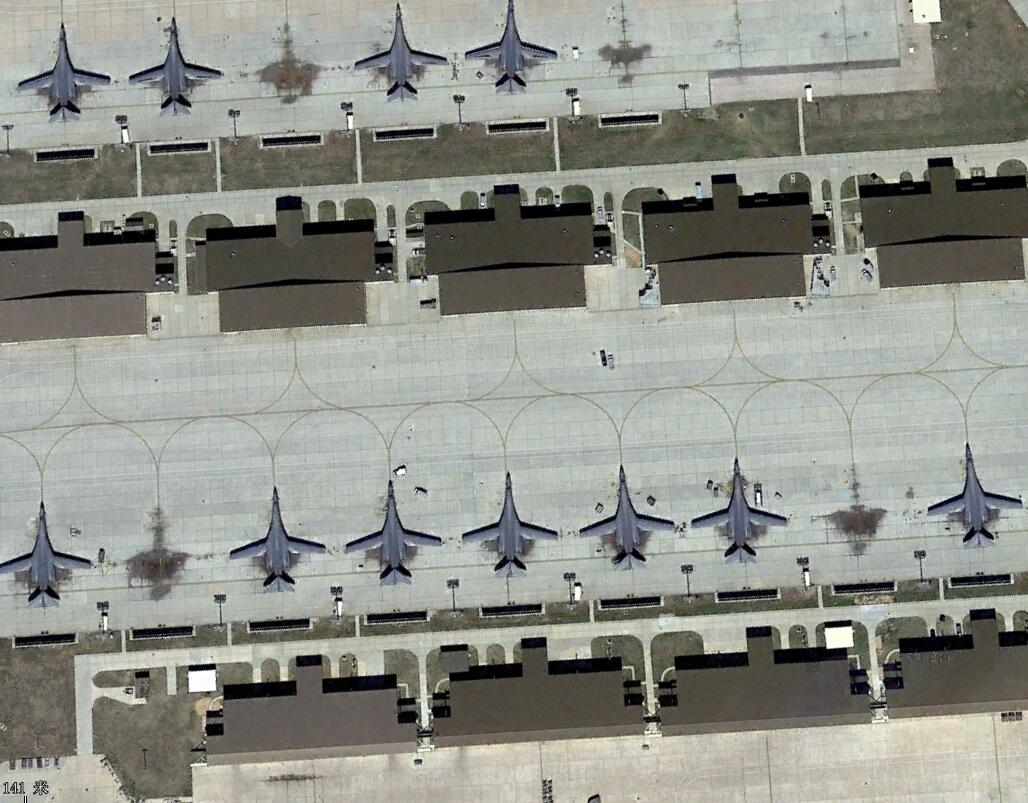A10: (576, 460, 680, 575), (688, 450, 790, 566), (227, 485, 329, 600), (922, 441, 1026, 553), (341, 478, 444, 590), (459, 472, 560, 581), (350, 1, 452, 106), (125, 15, 223, 121), (1, 501, 94, 609), (19, 20, 112, 127), (463, 2, 561, 97)
